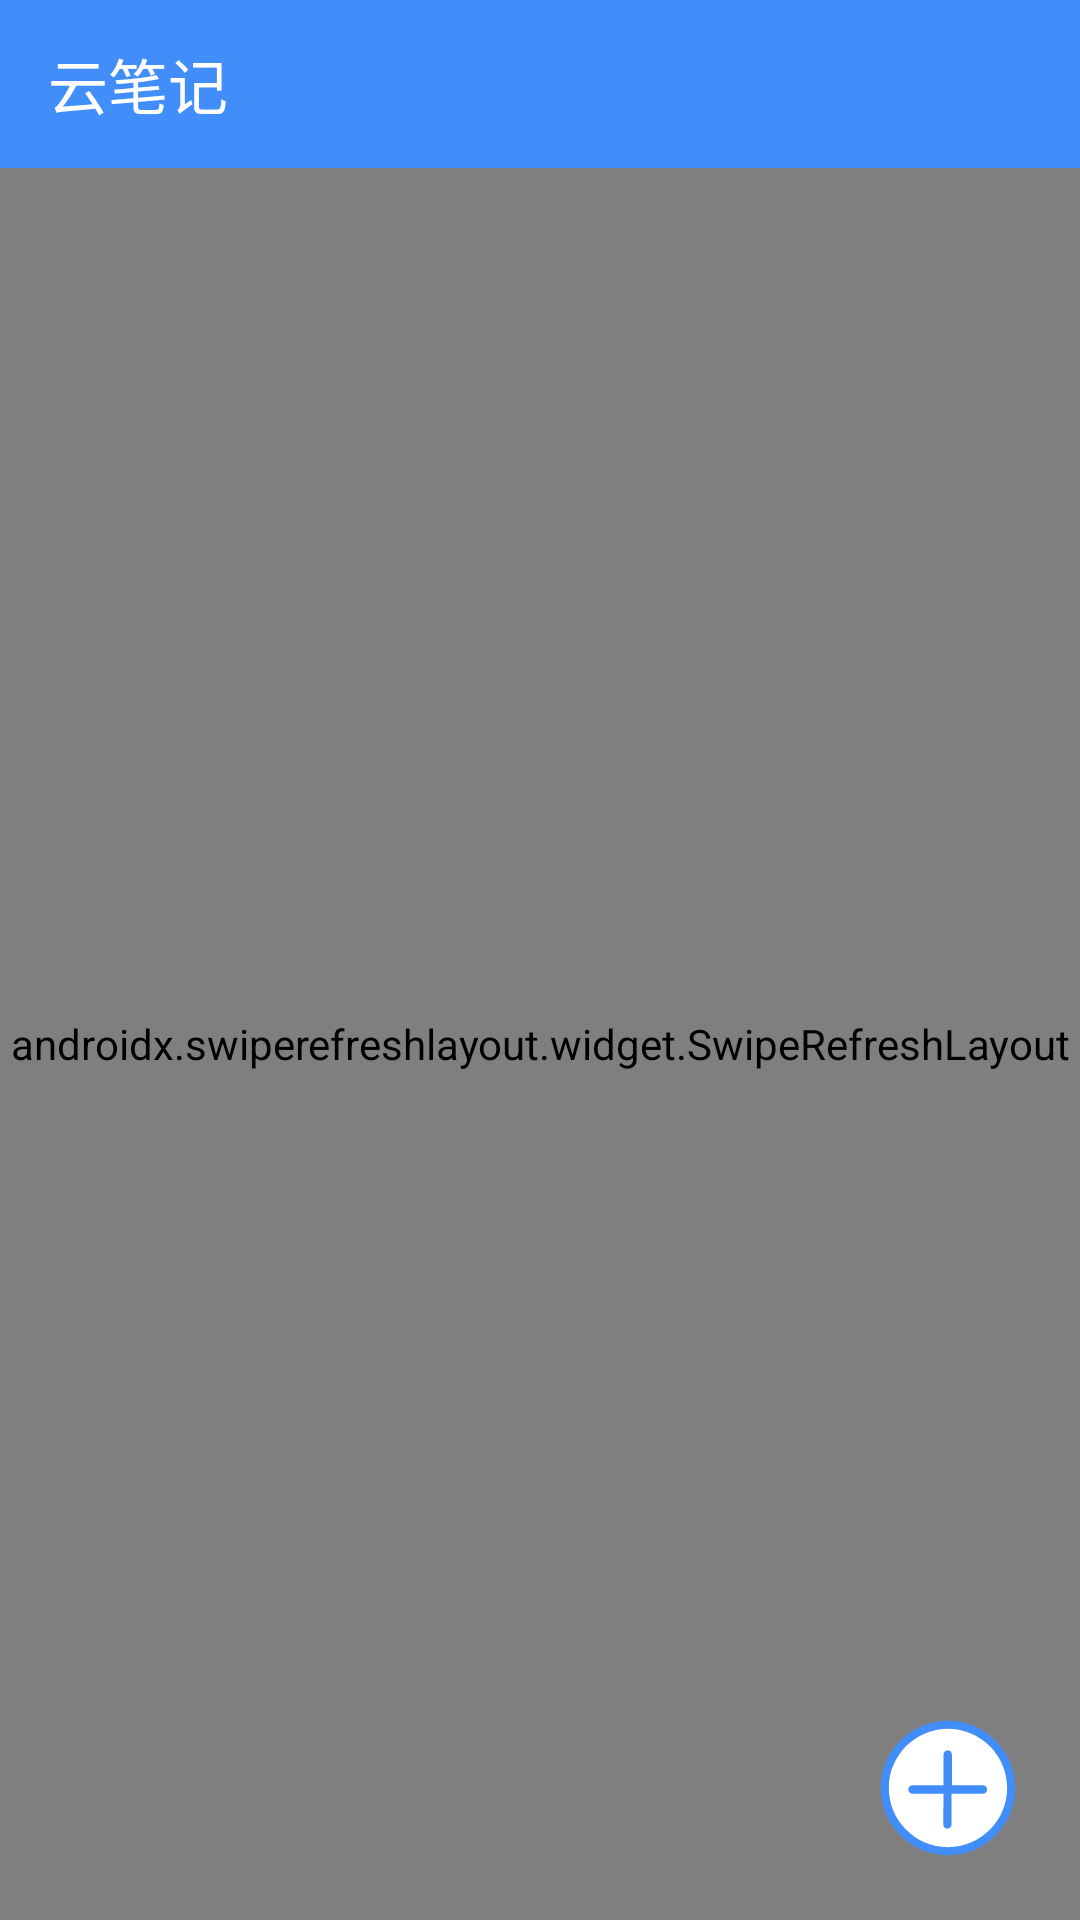

Screen size 1080*1920. Icon name, then its box in pixels as region(x1, y1, x2, y2):
add note float: region(880, 1720, 1015, 1856)
